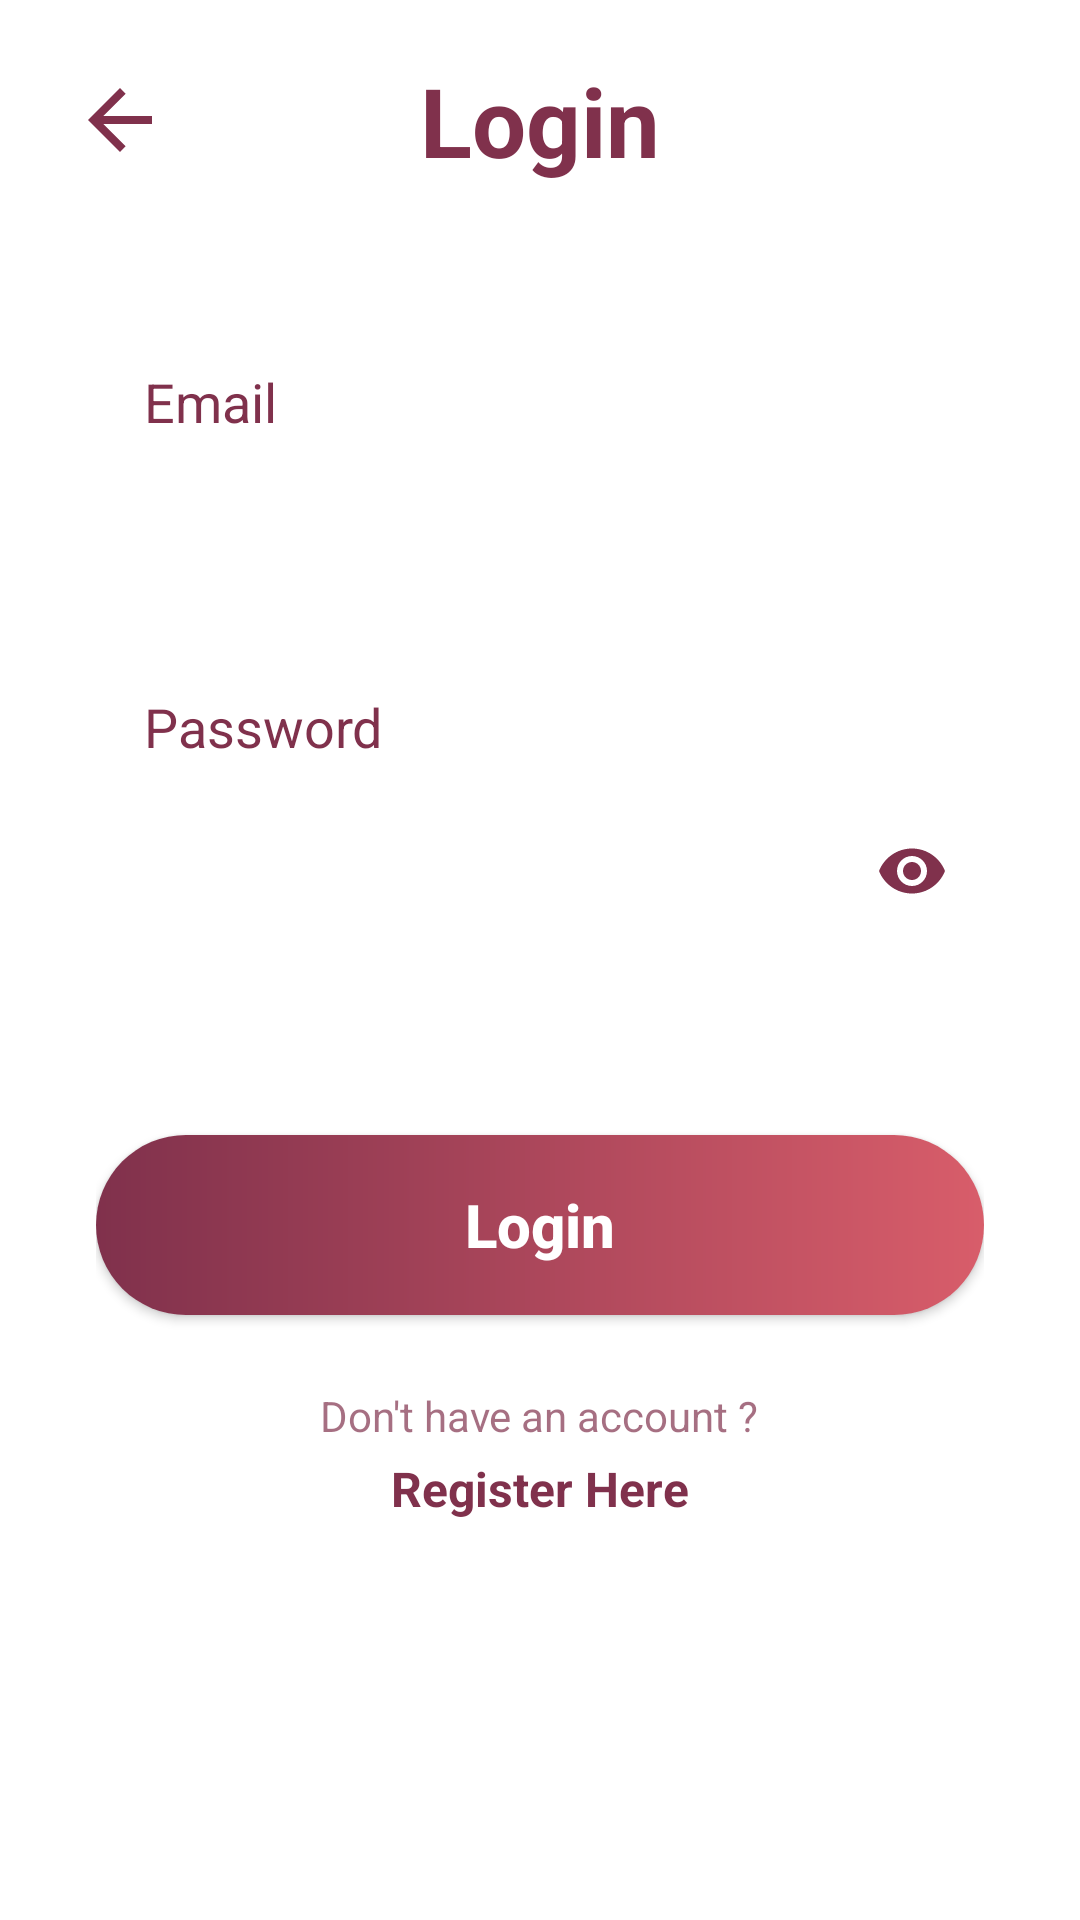

Named icons in this screenshot (1080x1920) and their bounding boxes, rect(x1, y1, x2, y2):
back: rect(88, 88, 152, 152)
